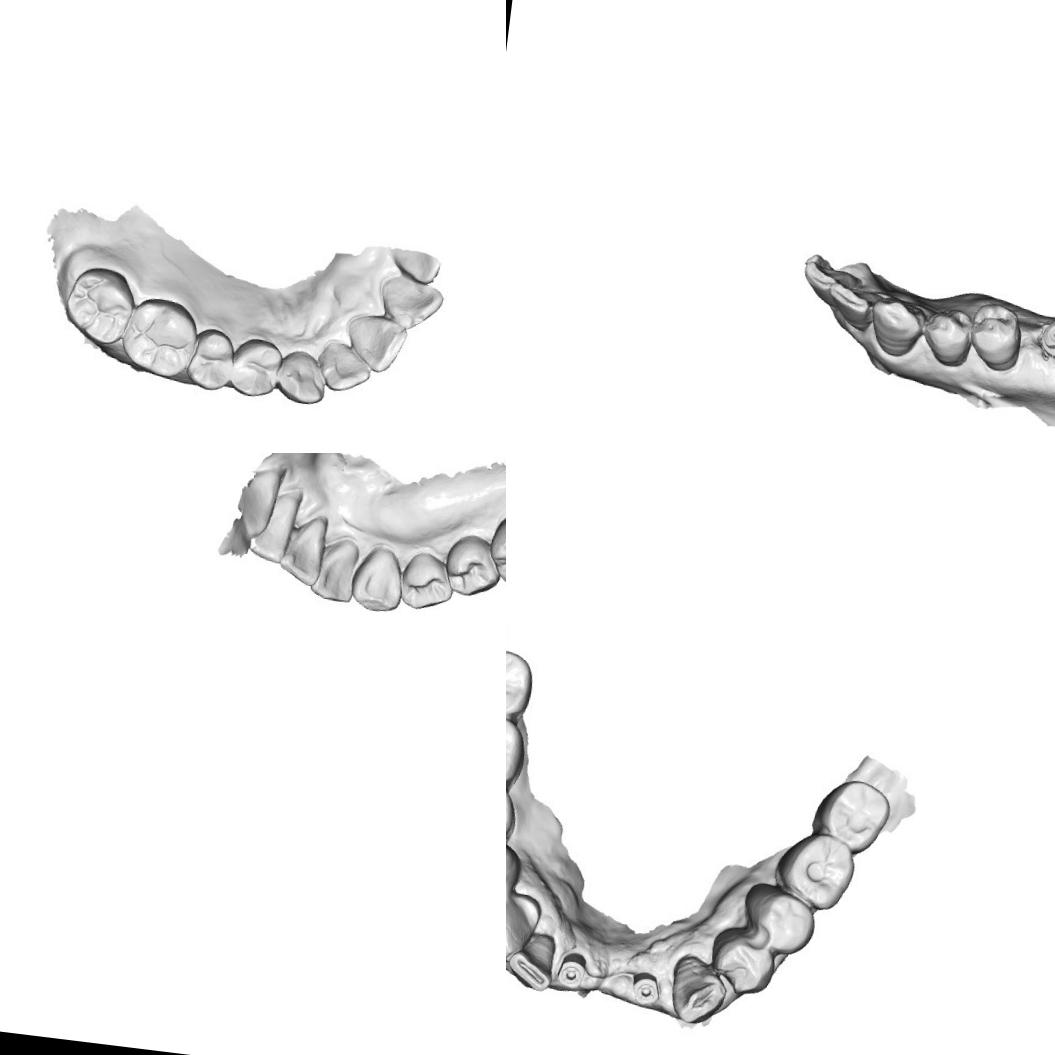canine: (664, 954, 733, 1028), (350, 540, 410, 620), (869, 293, 926, 357), (274, 346, 332, 408), (506, 891, 540, 962)
implant: (1034, 315, 1055, 363)
implant_plus: (625, 968, 666, 1014), (556, 954, 592, 992)
incisor: (374, 270, 448, 330), (246, 487, 300, 569), (279, 512, 332, 591), (345, 313, 410, 376), (320, 338, 378, 396), (800, 250, 858, 306), (508, 930, 562, 990), (314, 534, 358, 600), (830, 280, 880, 331)
molar: (766, 828, 856, 914), (802, 774, 892, 858), (116, 293, 199, 380), (55, 262, 135, 347), (506, 641, 536, 723), (486, 497, 506, 595), (506, 706, 526, 792)
premolar: (737, 877, 819, 953), (704, 926, 775, 996), (438, 528, 504, 599), (966, 300, 1024, 373), (181, 324, 240, 394), (393, 546, 455, 612), (227, 334, 287, 400), (922, 304, 974, 371)
